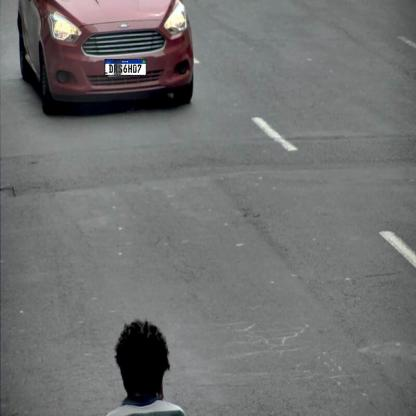PlacaM: (104, 59, 146, 76)
